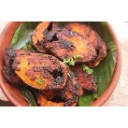seerfish: (32, 22, 106, 65), (8, 49, 67, 92), (40, 24, 96, 63)
